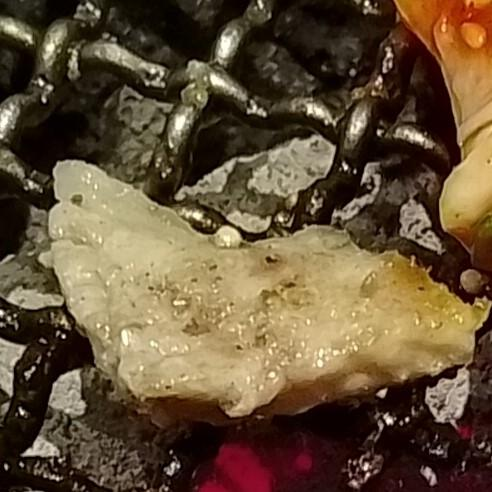Overcooked: (46, 160, 491, 428)
